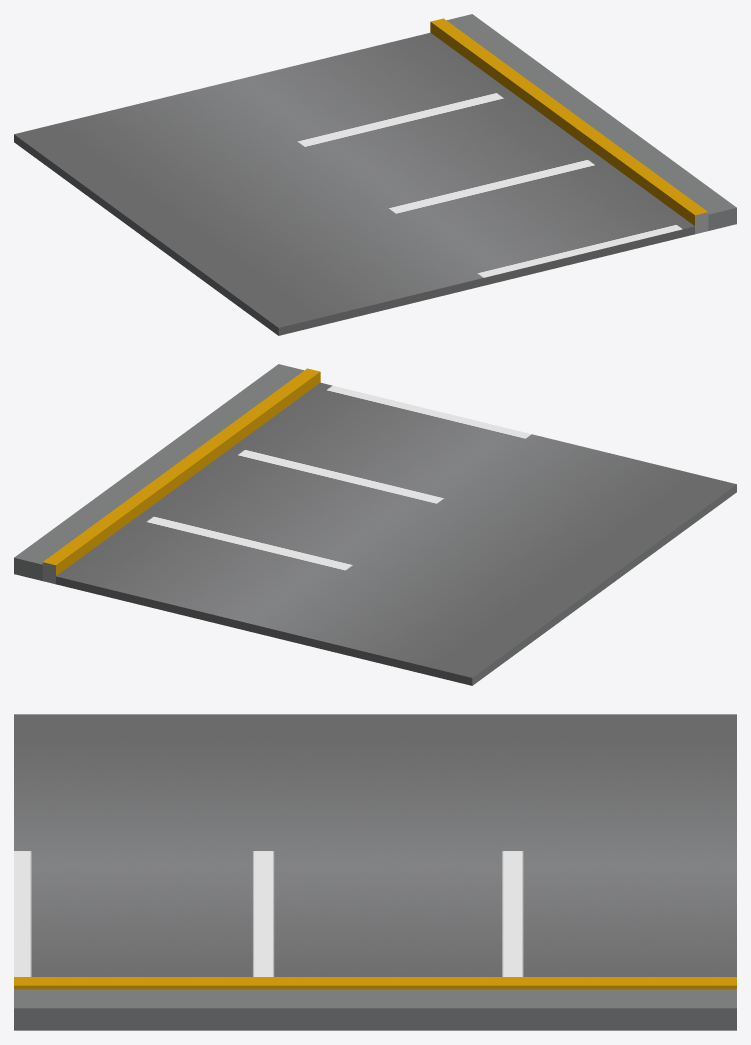
The model's file is Road1_Parking1_Open.fbx.
3 renders of one model, top to bottom at view 1: azimuth 30°, elevation 25°; view 2: azimuth 150°, elevation 25°; view 3: azimuth 270°, elevation 25°, orthographic. The views are drawn at different scales.
Visible parts, largest first — view 1: Road1_Parking1_Open; view 2: Road1_Parking1_Open; view 3: Road1_Parking1_Open.
Part boxes in pixels (left/top/right/bottom): Road1_Parking1_Open: left=14, top=14, right=736, bottom=335; Road1_Parking1_Open: left=14, top=364, right=736, bottom=685; Road1_Parking1_Open: left=14, top=714, right=736, bottom=1030.
Size of the model in its own units: 12 by 0.4753 by 12.
